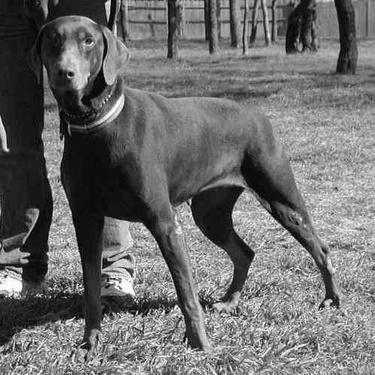dog: (18, 8, 345, 359)
